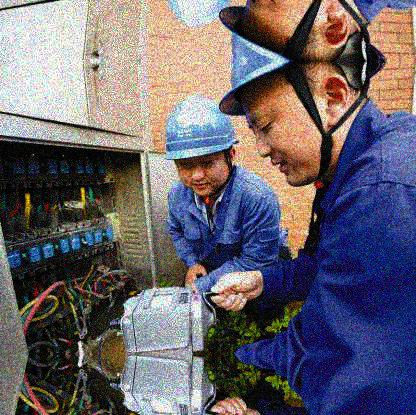helmet: (220, 59, 384, 187), (164, 94, 240, 197)
